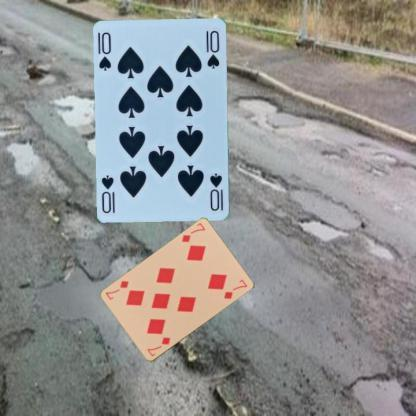10s: (207, 170, 225, 212), (96, 30, 112, 72)
7d: (178, 220, 206, 244), (144, 335, 172, 358)
